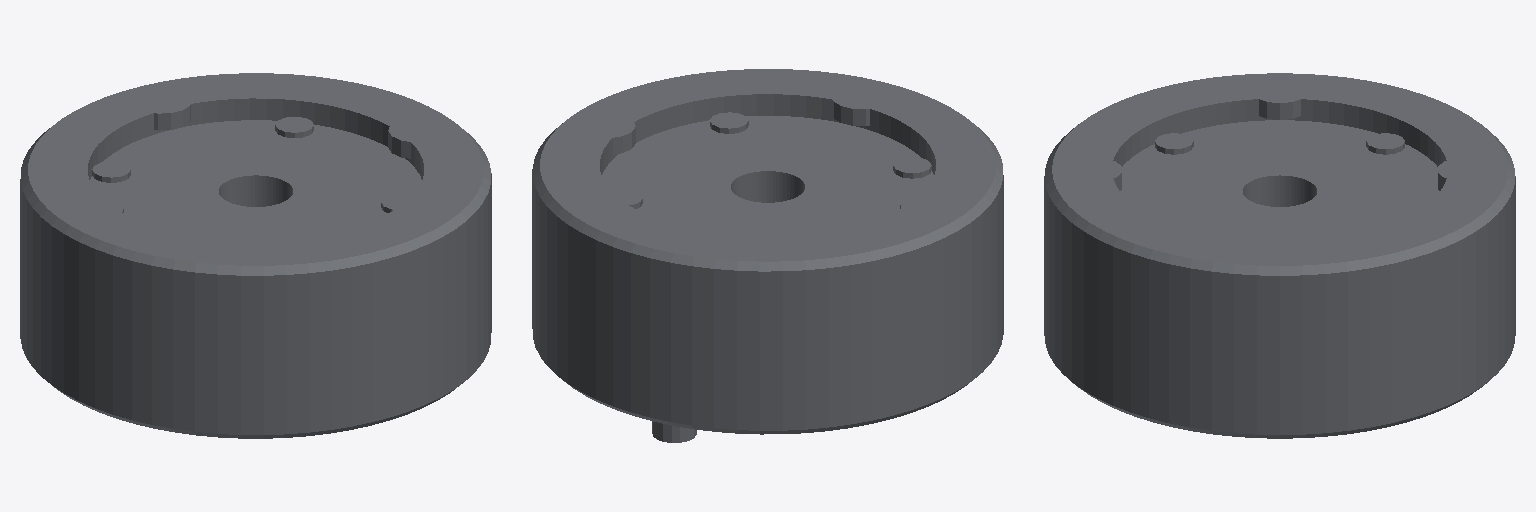
URDF robot description (flange_plate_sws011):
<?xml version="1.0"?>
<!--
  Flange Plate (SWS-011): ISO 9409-1-50-4-M6 のロボットフランジと SCHUNK SWS-011
  マスタ (SWK-011) を繋ぐロボット側アダプタプレートの自作アセット (CC0-1.0)。

  ============================================================================
  参照実機: **SCHUNK A-SWK-011-ISO-A50** (ID 0302223)
    https://schunk.com/us/en/p/000000000000302223
    寸法出典: SCHUNK 公式 SWS カタログ p.28 "Adapter plate ISO-A50-R" (公表図。
    複製制限なしの通常カタログ)
  ============================================================================

  **これは A-SWK-011-ISO-A50 の複製ではない。** 外観 (面取り・ボスの見せ方) は
  独自著作で、寸法は公表図に合わせてある:
    - 外径 **ø63** / 本体 **25.5 mm** / ロボット側 ISO パイロット **ø31.5 x 5.0**
      (全高 30.5)
    - ロボット側 = **ISO 9409-1-50-4-M6** (ボルト円 ø50 に M6 通し x4 + ダウエル ø6)
    - ツール側 = **S7**: SWK-011 が M3x25 x4 (ボルト円 ø40) で載る。
      **SWK の cover (ø45h7 x 3.2) を受けるポケット ø45 x 3.2** — 「cover は
      アダプタプレートに支持されることが必須」という公式カタログ注記の実装。
      深さ 3.2 = cover 厚 (面で支持) はこの注記からの導出値
    - 中央通し穴 ø10 と質量 **0.20 kg (アルミ想定)** は設計値 (カタログ非公表)

  これで実機どおりの取付連鎖が成立する:
    ロボットフランジ (ISO 9409-1-50-4-M6, UR3/UR5/UR10 等)
      -> [plate.mount .. plate.flange]   本アセット          (25.5 mm)
      -> [master.mount .. coupling]      tool-changer-sws011-master (15.5 mm)
      -> [tool.mount .. tool.flange]     tool-changer-sws011-tool   (20.6 mm)
      -> エンドエフェクタ                              合計 61.6 mm

  座標系 (botrail カタログ規約): Z-up / メートル。root リンク mount = ロボット
  フランジ接触面 (+Z がツール側)。flange = SWK-011 が座るツール面 (z = 25.5 mm)。

  visual: tools/generate_meshes.py が生成する ../meshes/plate.stl (手続き的著作)
  collision: URDF プリミティブのみ (本体 + パイロット)。ダウエル・ボルト縁は
          相手側の穴に入る/沈む形状なので collision に出さない
-->
<robot name="flange_plate_sws011">

  <link name="mount"/>

  <link name="body">
    <!--
      色: STL は材質を持てないので外観はここで述べる。述べないと消費側が
      リンクを既定パレット (studio は 8 色循環) で塗り、**同じ製品でもシーン内の
      並び順で色が変わる**。参照実機の公表資料に塗色の記載が無いため実機の色は
      主張せず、この種の部品として素直な地色を著作する。数値は **linear** で渡る
      (botrail は URDF の <color rgba> をそのまま Shape.color に載せ、studio は
      LinearSRGB として読む)。
    -->
    <visual>
      <geometry>
        <mesh filename="../meshes/plate.stl"/>
      </geometry>
      <material name="machined_aluminium"><!-- 素の機械加工アルミ -->
        <color rgba="0.47 0.48 0.50 1.0"/>
      </material>
    </visual>

    <collision><!-- plate body ø63 x 25.5 -->
      <origin xyz="0 0 0.01275"/>
      <geometry><cylinder radius="0.0315" length="0.0255"/></geometry>
    </collision>
    <collision><!-- ISO 9409-1 pilot ø31.5 (seats in the robot flange bore) -->
      <origin xyz="0 0 -0.0025"/>
      <geometry><cylinder radius="0.01575" length="0.005"/></geometry>
    </collision>

    <!-- 質量 0.20 kg (アルミ想定の設計推定。実機値は非公表)。
         慣性は ø63 x 30.5 の中実円柱近似 -->
    <inertial>
      <origin xyz="0 0 0.0120"/>
      <mass value="0.20"/>
      <inertia ixx="6.51e-5" ixy="0.0" ixz="0.0" iyy="6.51e-5" iyz="0.0" izz="9.92e-5"/>
    </inertial>
  </link>

  <!-- SWK-011 が座るツール面 (S7)。cover はこの面のポケットに沈んで支持される -->
  <link name="flange"/>

  <joint name="body_joint" type="fixed">
    <parent link="mount"/>
    <child link="body"/>
  </joint>

  <joint name="flange_joint" type="fixed">
    <origin xyz="0 0 0.0255"/>
    <parent link="body"/>
    <child link="flange"/>
  </joint>

</robot>

--- Render facts (derived) ---
Views: 3 orthographic renders of the robot side by side, from view 1: azimuth 30°, elevation 25°; view 2: azimuth 150°, elevation 25°; view 3: azimuth 270°, elevation 25°.
Model flange_plate_sws011 with 3 links and 2 joints (2 fixed), rooted at mount, posed every joint at zero.
Links seen in each view (by area): view 1: body; view 2: body; view 3: body.
Link boxes in pixels (bbox=[...]): body: bbox=[20, 73, 491, 438]; body: bbox=[532, 69, 1003, 442]; body: bbox=[1044, 73, 1515, 438].
Size in the robot's own frame: 0.063 by 0.063 by 0.0305 metres.
Meshes: 1 distinct files referenced, 1 mesh visuals loaded (1 binary STL).
